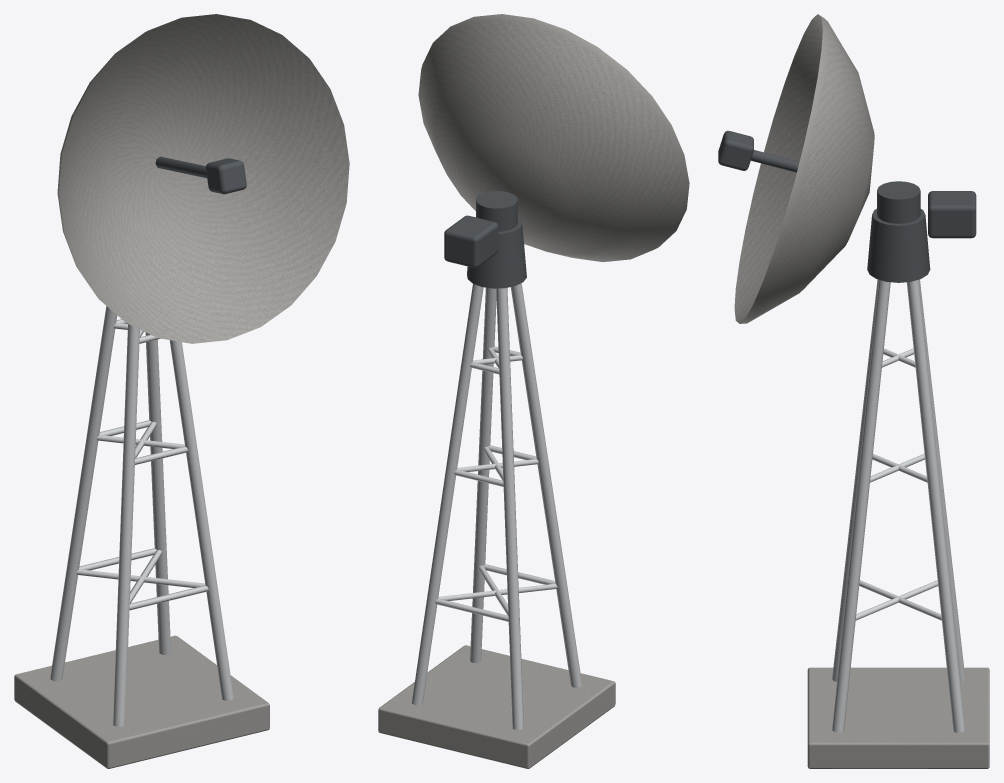
The model's file is battle-royale-town-and-airfield-radar-dish-mast-8c1d7c10__28255.glb.
3 renders of one model, left to right at view 1: azimuth 30°, elevation 25°; view 2: azimuth 150°, elevation 25°; view 3: azimuth 270°, elevation 25°, orthographic. The views are drawn at different scales.
Visible parts, largest first — view 1: dish/concrete, radar-dish-mast, dish/gunmetal; view 2: dish/concrete, radar-dish-mast, dish/gunmetal; view 3: radar-dish-mast, dish/concrete, dish/gunmetal.
Part boxes in pixels (x1,y1,x2,y2): dish/concrete: (57, 14, 349, 343); radar-dish-mast: (14, 306, 269, 768); dish/gunmetal: (155, 156, 246, 194); dish/concrete: (418, 14, 689, 261); radar-dish-mast: (378, 217, 615, 768); dish/gunmetal: (444, 191, 517, 267); radar-dish-mast: (807, 208, 989, 768); dish/concrete: (734, 14, 874, 323); dish/gunmetal: (718, 130, 976, 238).
Bounding box in the file's own units: 2.62 × 6.38 × 2.24.
3 materials, 1 textured.
